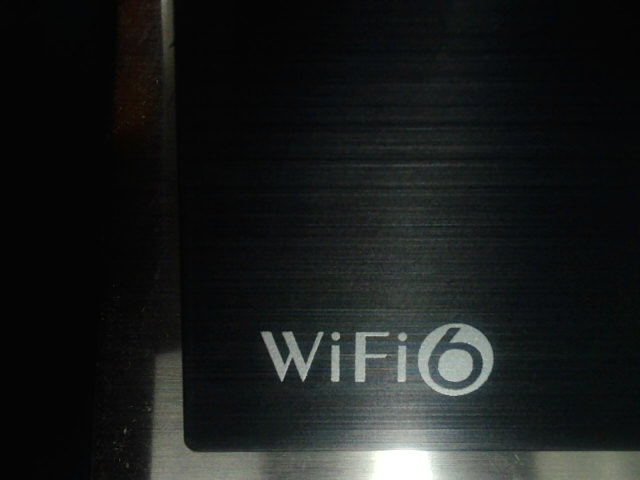AK_ZTEWIFI6Black: (251, 315, 506, 402)
